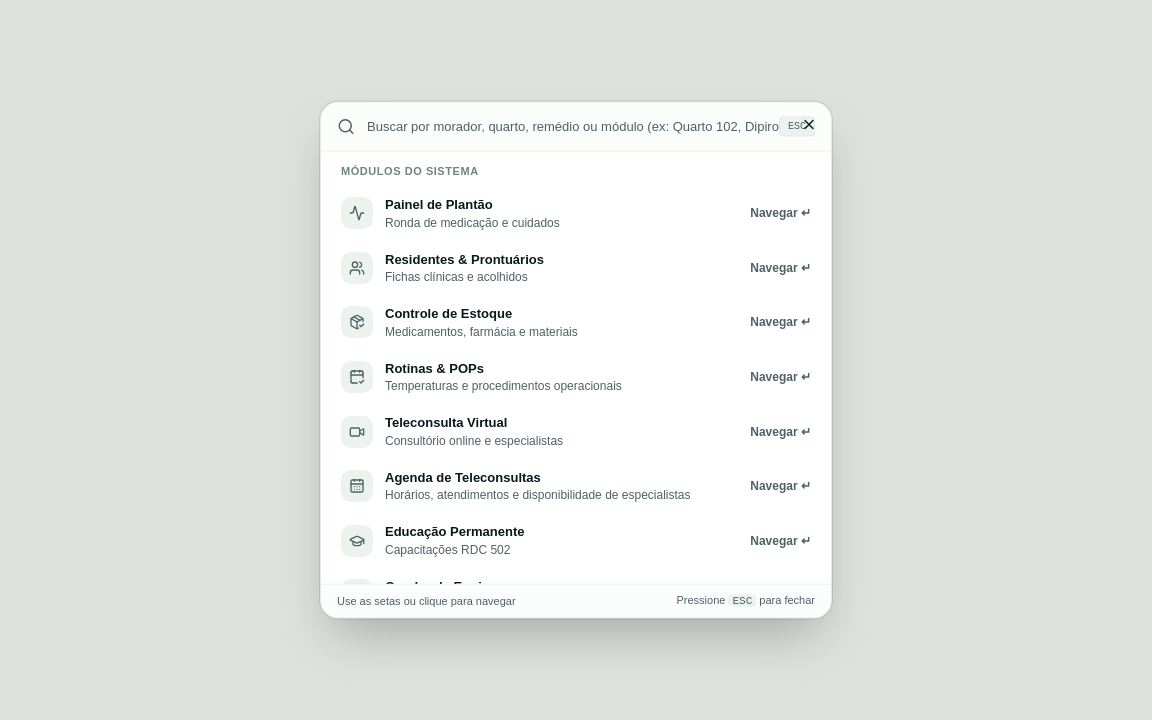
Test: CommandPaletteModal Component (Busca Rápida Global) › exibe mensagem amigável quando nenhum resultado é encontrado
The image size is (1152, 720).
Replace the text in the field with placeholder "Buscar por morador, quarto, remédio ou módulo" with "XYZ999Inexistente": (573, 127) [367,117,779,136]
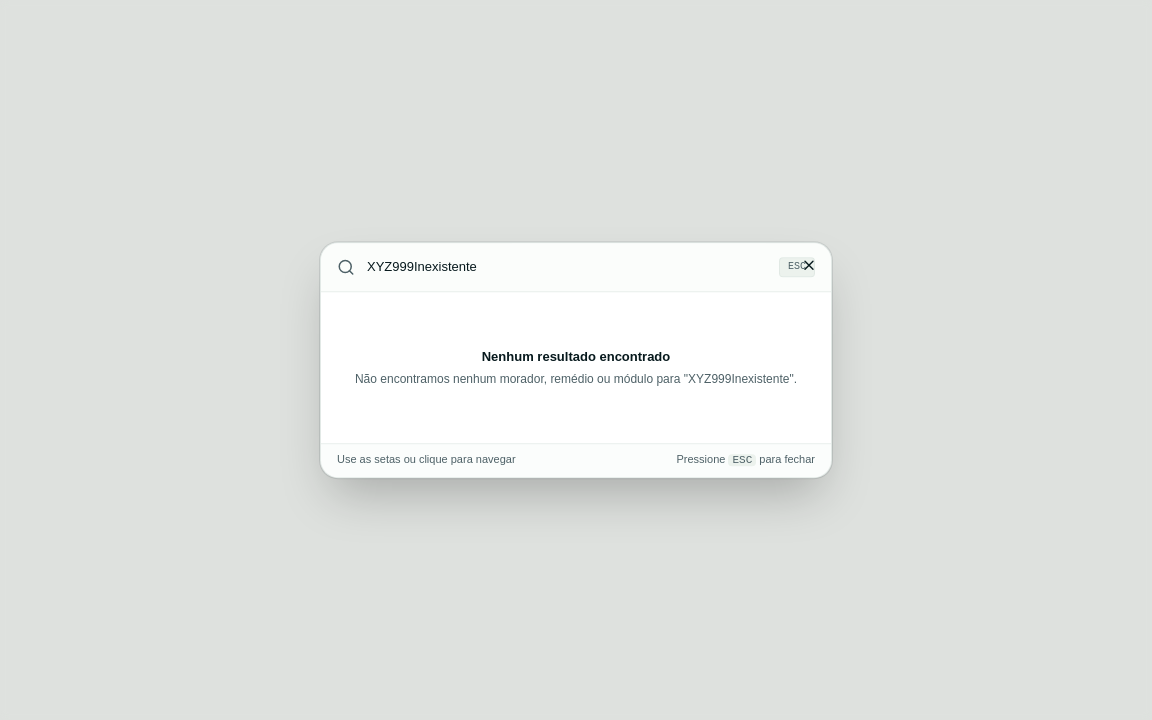
Now the text "Nenhum resultado encontrado" is shown, box [482,350,670,364]
